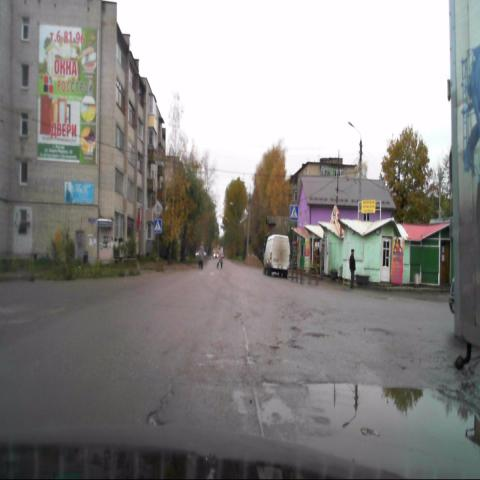5_19_1: (290, 204, 299, 221), (154, 219, 162, 234)
